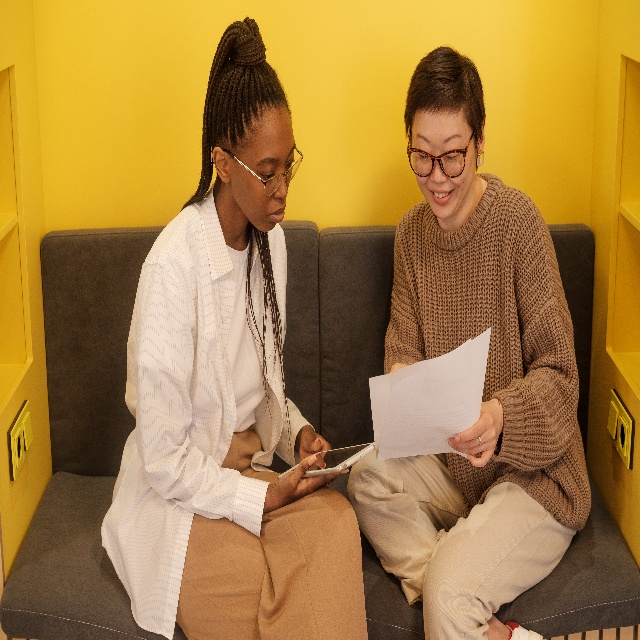Gafas: (222, 144, 303, 196), (405, 131, 478, 177)
Sin_guantes: (274, 453, 358, 506), (447, 397, 503, 467), (298, 427, 332, 470)
